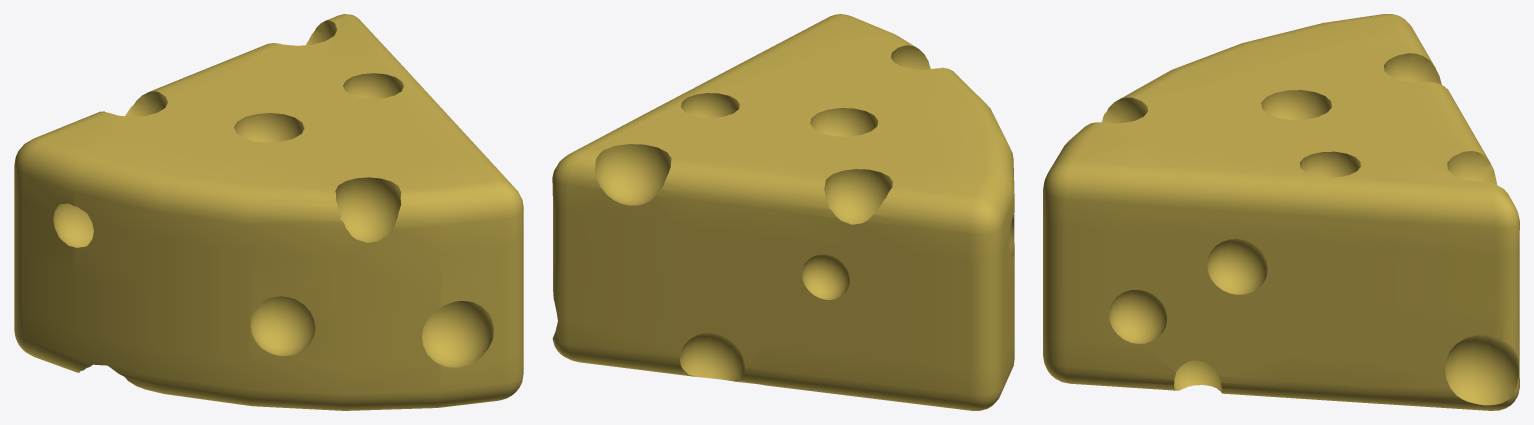
The model's file is CheeseColor.fbx.
3 views of the same model, side by side, from view 1: azimuth 30°, elevation 25°; view 2: azimuth 150°, elevation 25°; view 3: azimuth 270°, elevation 25° (orthographic). The views are drawn at different scales.
Visible parts, largest first — view 1: CheeseColor; view 2: CheeseColor; view 3: CheeseColor.
Part boxes in pixels (x1,y1,x2,y2): CheeseColor: [14, 14, 523, 410]; CheeseColor: [552, 14, 1014, 410]; CheeseColor: [1043, 14, 1519, 410].
Bounding box in the file's own units: 91.89 × 47.64 × 93.53.
